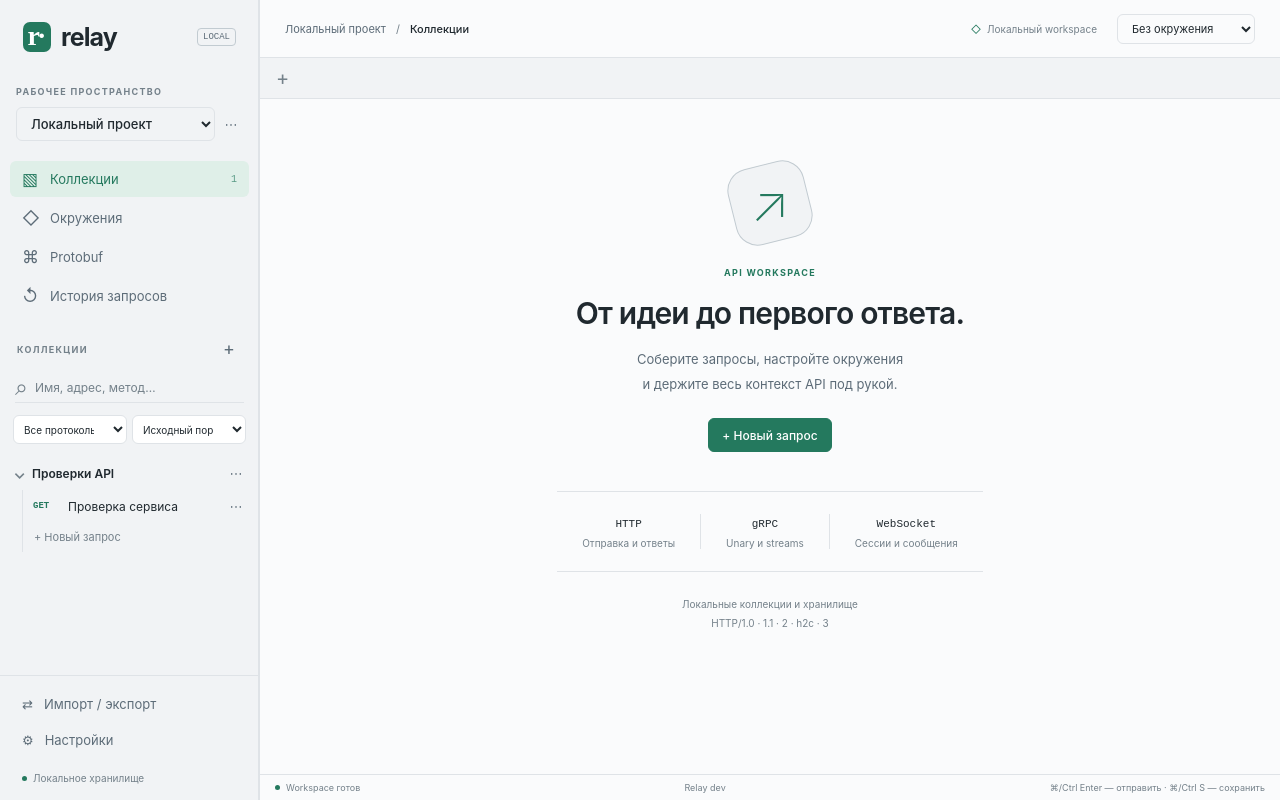
Test: desktop workspace › opens a saved HTTP definition and enables Go HTTP execution
Click the button "GET Проверка сервиса" at (126, 506), box top-left (29, 492), bottom-right (222, 520)
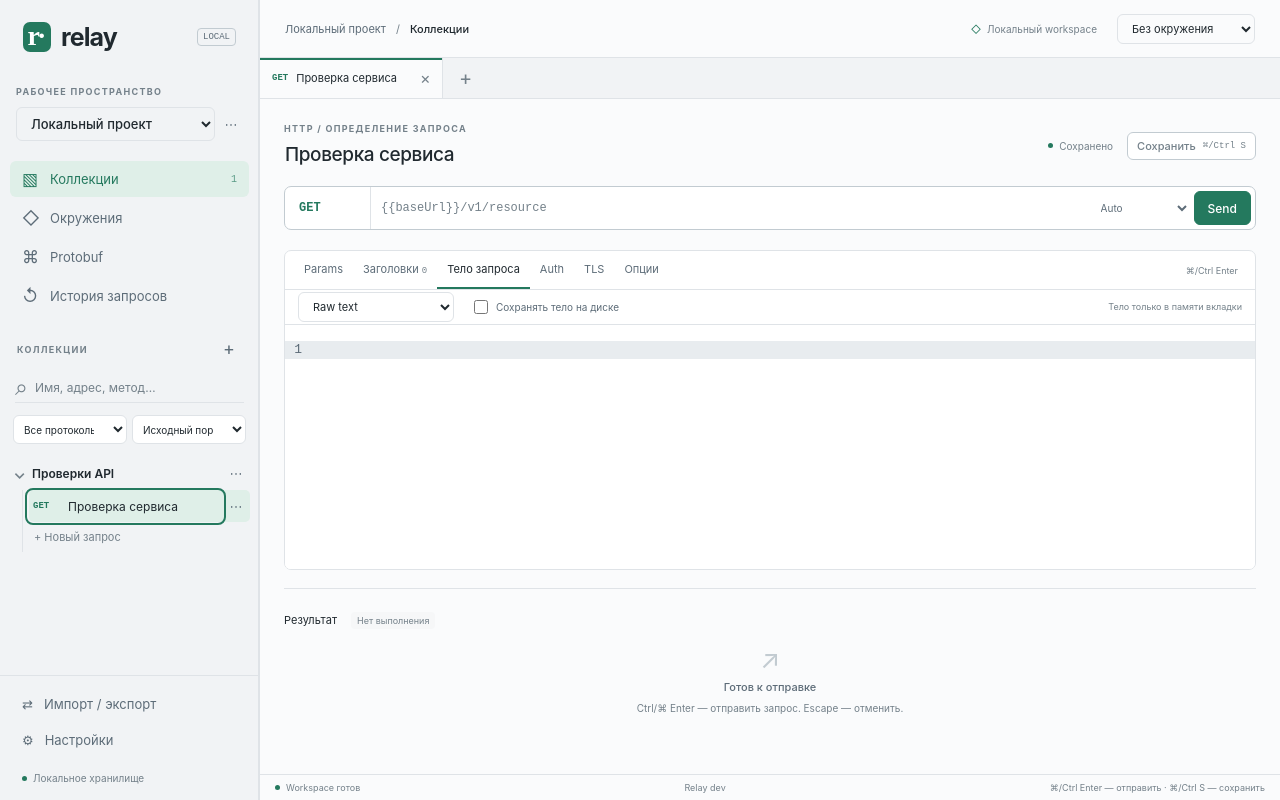
Now the field named "Имя запроса" holds "Проверка сервиса", box top-left (284, 134), bottom-right (1028, 168)
Now the field named "Тело запроса" is shown, box top-left (315, 341), bottom-right (1255, 359)
Now the button "Send" is enabled, box top-left (1194, 191), bottom-right (1251, 225)
